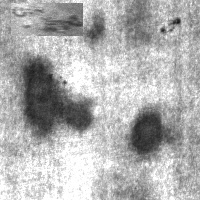patches: (20, 53, 94, 139), (126, 108, 166, 156)
rolled-in_scale: (11, 3, 83, 36)
